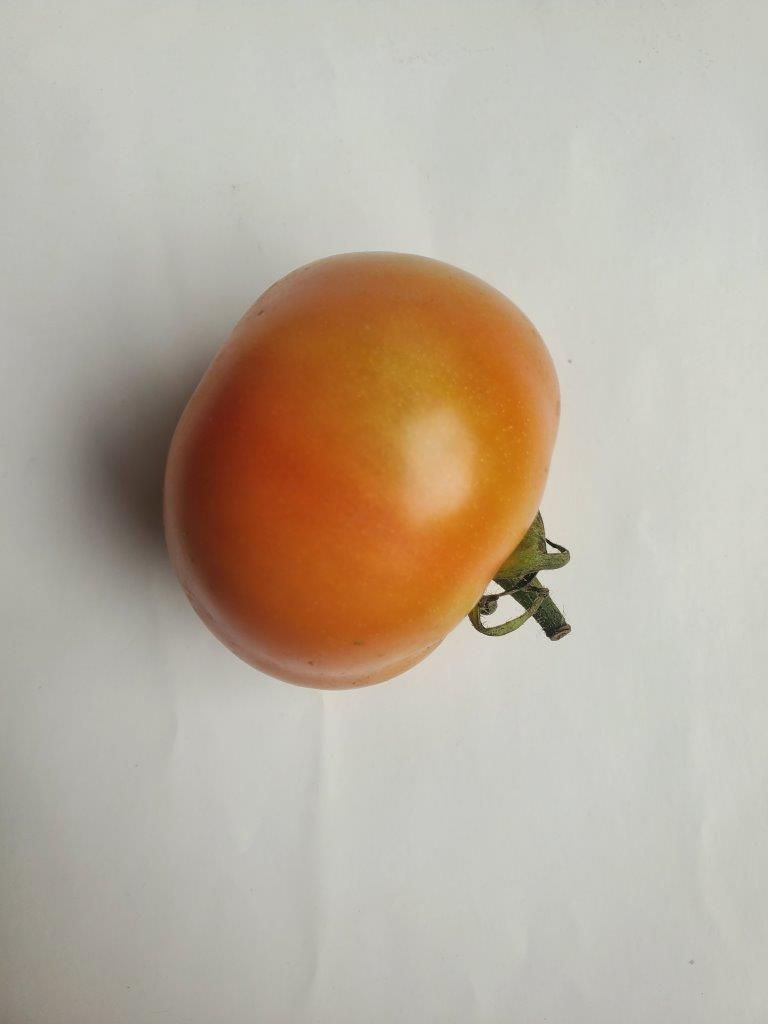tomato: (164, 254, 558, 687)
